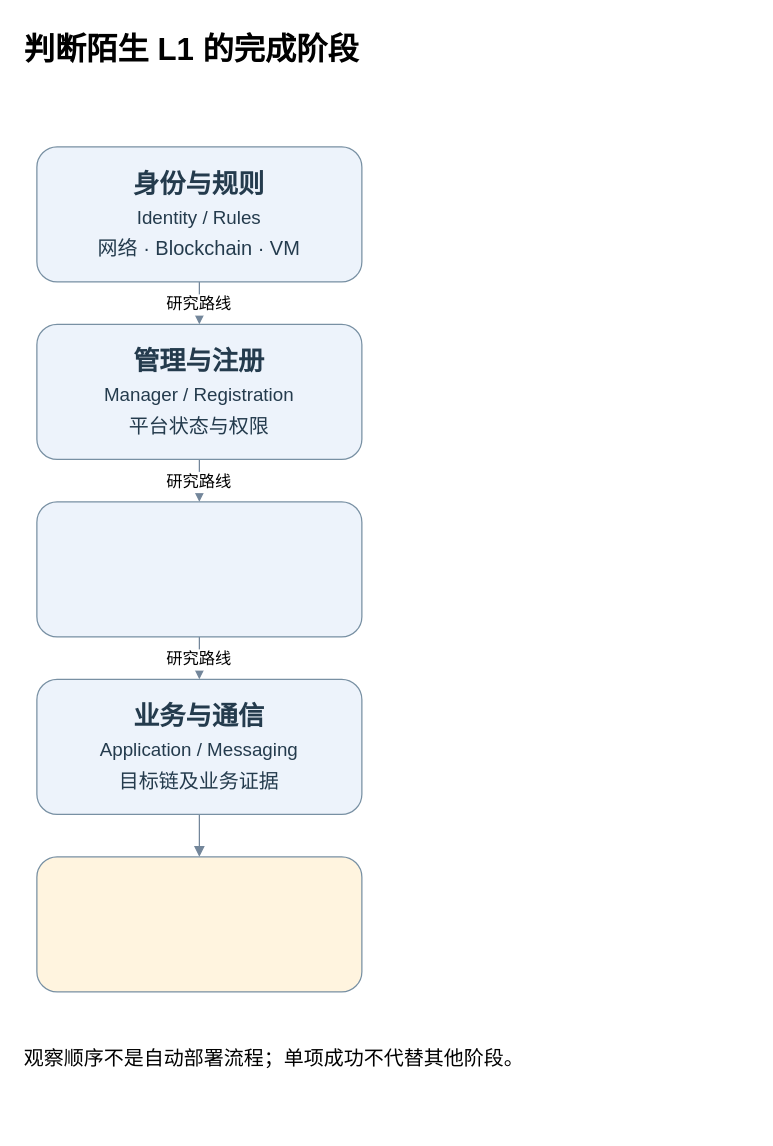
Some shapes in this 773 by 1146 pixel diagram are drawn without their labels. The shapes that lost their labels are listed below. From the top down, each one's centre as x and y in pixels, then its label:
At point (199, 569): "运行与服务 Runtime / RPC 区块与具体结果".
At point (199, 924): "分项证据矩阵 Evidence Matrix 已取得、未知与阻碍".
